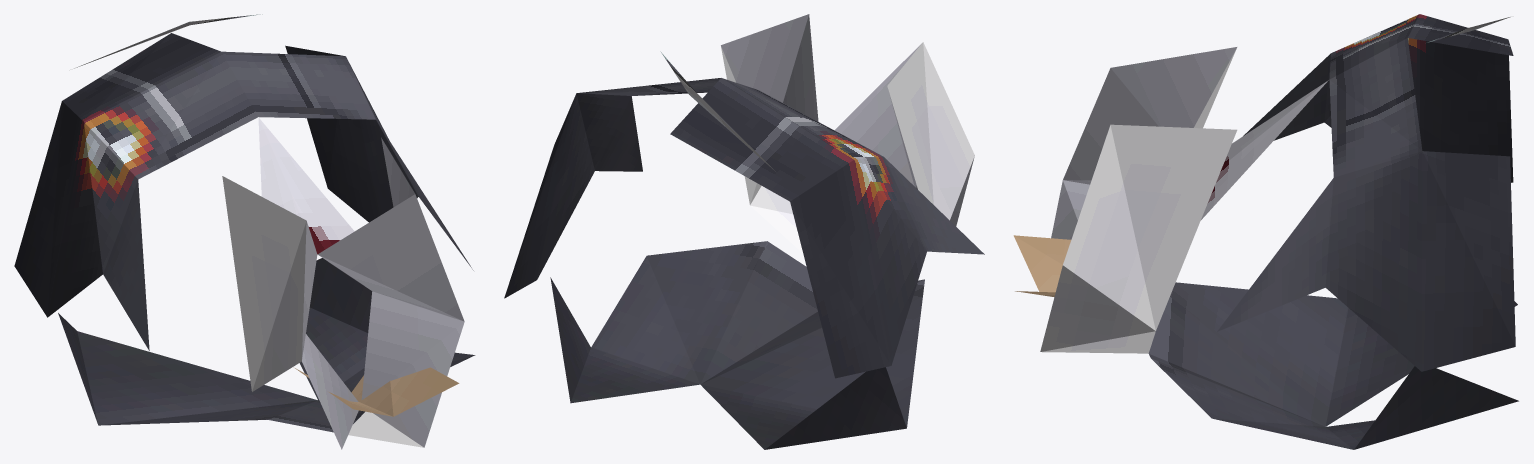
File: kotone_n7.obj
3 renders of one model, left to right at view 1: azimuth 30°, elevation 25°; view 2: azimuth 150°, elevation 25°; view 3: azimuth 270°, elevation 25°, orthographic. The views are drawn at different scales.
Size of the model in its own units: 0.2232 by 0.2241 by 0.271.
Materials: 5 (5 with a texture image).
